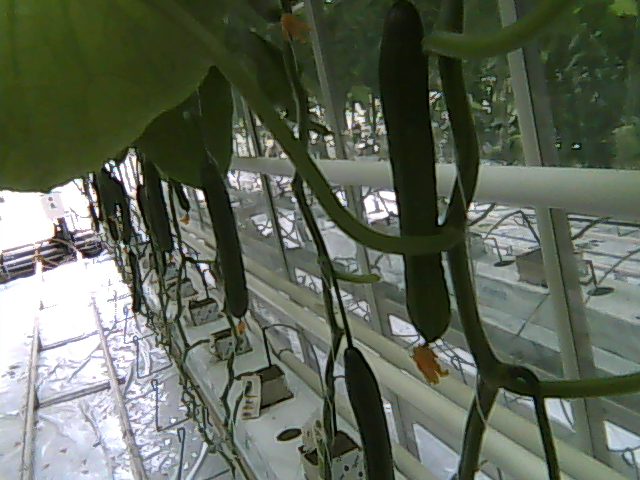concombre: (376, 1, 454, 390), (196, 158, 252, 339), (342, 345, 398, 480)
